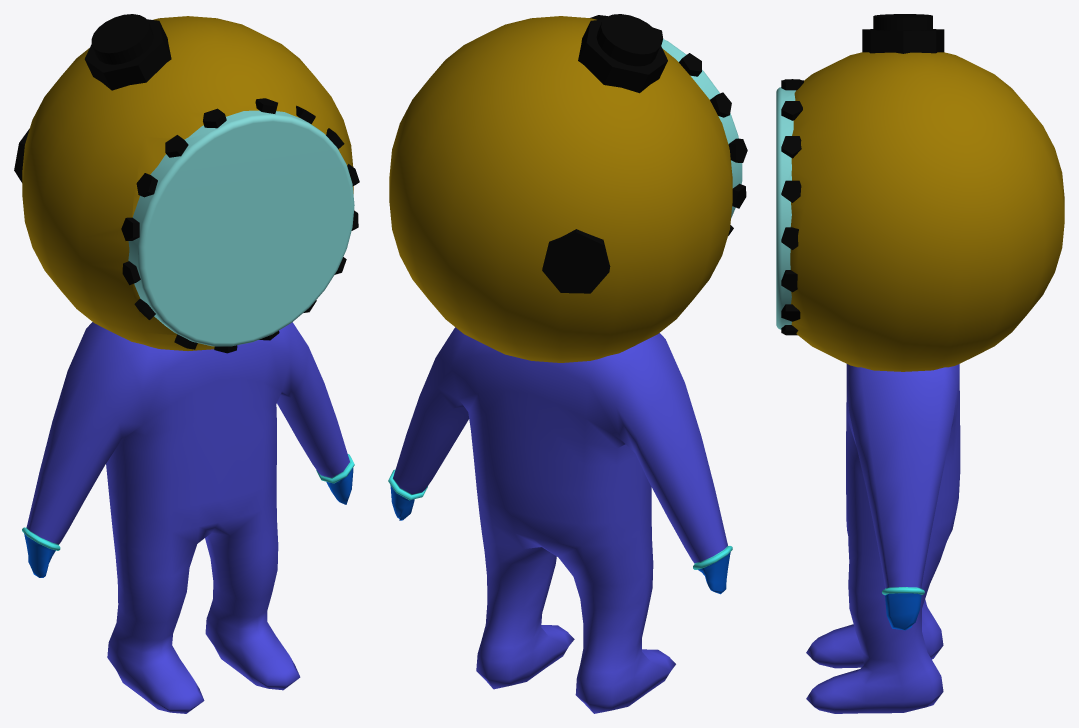
File: diver.fbx
The picture shows the model from 3 angles, left to right: view 1: azimuth 30°, elevation 25°; view 2: azimuth 150°, elevation 25°; view 3: azimuth 270°, elevation 25°; orthographic projection. The views are drawn at different scales.
Visible parts, largest first — view 1: helmet, body, screws, top2, top1; view 2: helmet, body, back, top2, top1, screws; view 3: helmet, body, screws, top2, top1.
Boxes of the visible parts, x1=… form: helmet: x1=22, y1=16, x2=354, y2=350; body: x1=22, y1=322, x2=354, y2=713; screws: x1=121, y1=98, x2=359, y2=353; top2: x1=84, y1=19, x2=171, y2=90; top1: x1=91, y1=14, x2=153, y2=64; helmet: x1=389, y1=16, x2=742, y2=362; body: x1=388, y1=327, x2=732, y2=713; back: x1=542, y1=229, x2=610, y2=293; top2: x1=578, y1=19, x2=667, y2=93; top1: x1=596, y1=14, x2=660, y2=66; screws: x1=590, y1=15, x2=747, y2=235; helmet: x1=776, y1=52, x2=1064, y2=371; body: x1=806, y1=364, x2=960, y2=713; screws: x1=781, y1=79, x2=803, y2=335; top2: x1=862, y1=29, x2=944, y2=53; top1: x1=873, y1=14, x2=932, y2=30.
Size of the model in its own units: 1.7 by 3.34 by 1.35.
